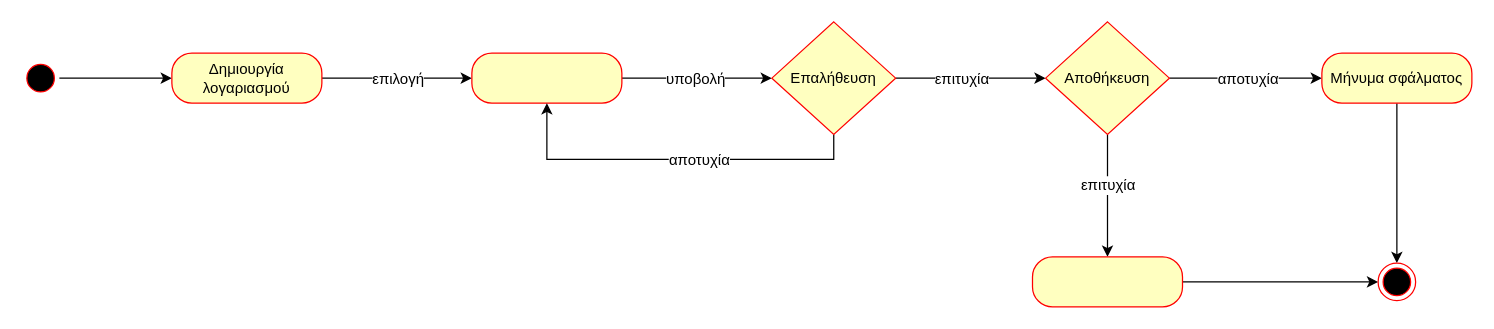
The diagram is 1494 pixels wide and 329 high, and some of its shapes have lost their labels. The shapes that lost their labels are listed below. From the top down, each one's centre as x and y in pixels, then its label:
At (x=546, y=77): "Στοιχεία καταχώρησης".
At (x=1106, y=281): "Επισκόπηση νέου λογαριασμού".
